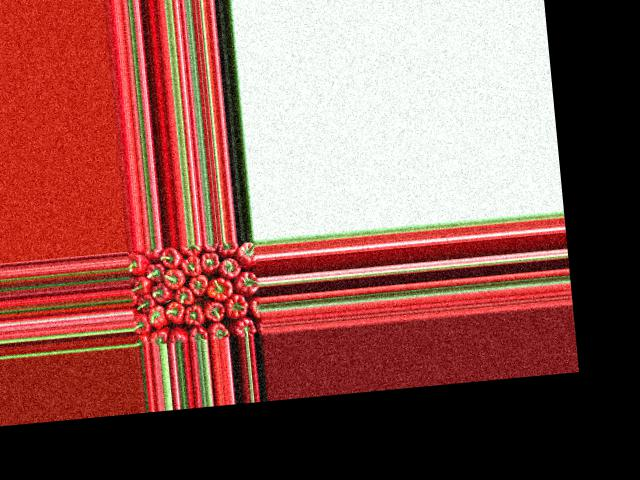bell_pepper: (128, 251, 150, 273)
